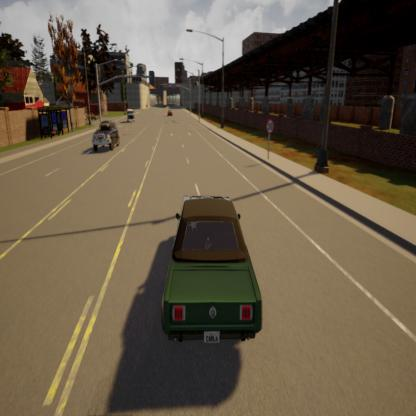Cars: (152, 186, 270, 356), (90, 118, 124, 152), (125, 107, 137, 126), (166, 108, 174, 118)
